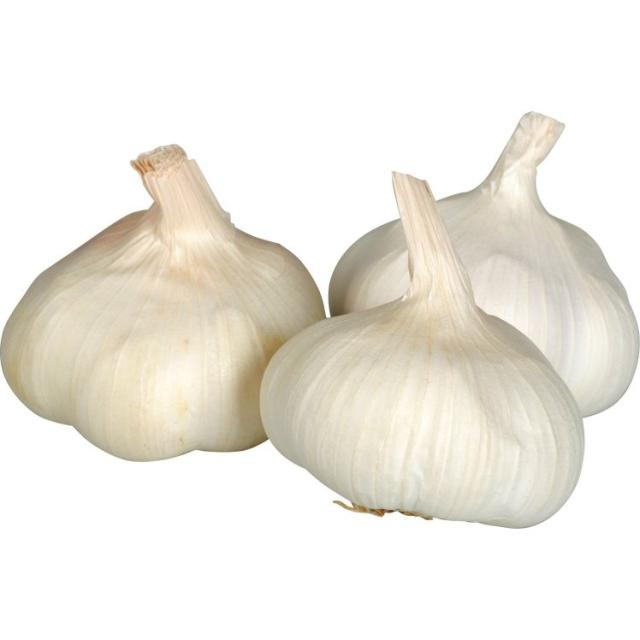garlic: (0, 182, 640, 522)
